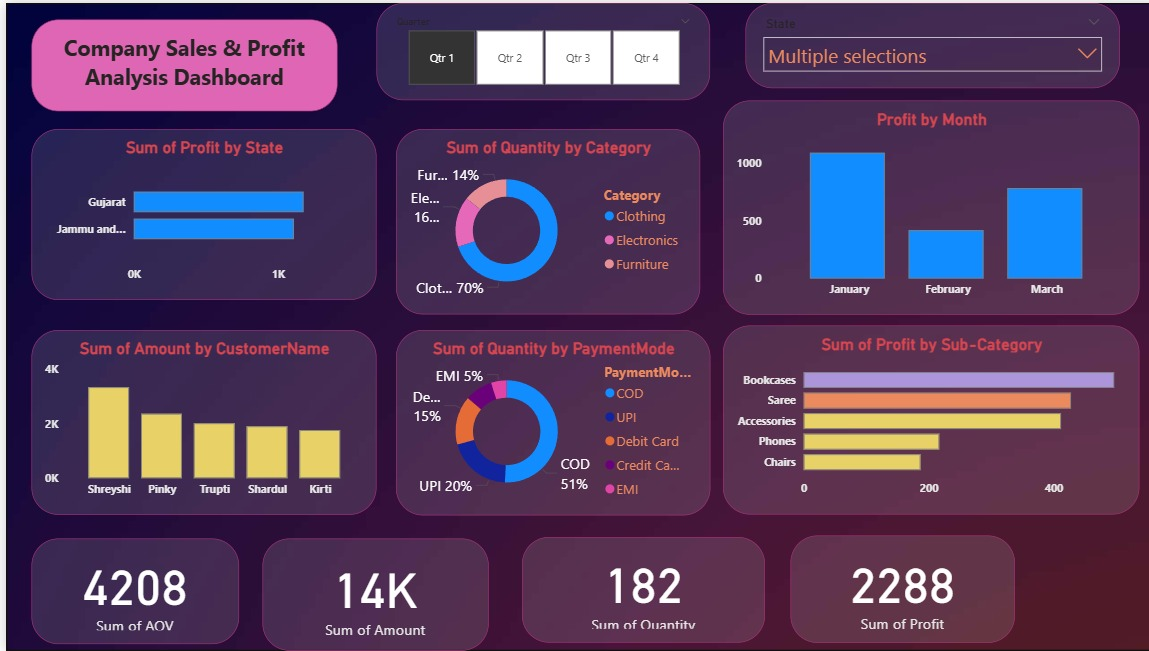

The dashboard page shown, as its layout file describes it:
{"tool":"powerbi","page":{"name":"Page 1","canvas":[1280,720],"ordinal":0},"visuals":[{"type":"textbox","box":[28.3,20.8,340.2,86.9],"z":1},{"type":"columnChart","title":" Profit by Month","fields":{"Y":["Sum(Details.Profit)"],"Category":["Orders.Order Date.Variation.Date Hierarchy.Month"]},"box":[797.5,107.7,463,238.1],"z":2},{"type":"barChart","fields":{"Category":["Details.Sub-Category"],"Y":["Sum(Details.Profit)"]},"box":[797.5,359.1,463,209.8],"z":3},{"type":"donutChart","fields":{"Category":["Details.Category"],"Y":["Sum(Details.Quantity)"]},"box":[432.8,139.8,338.3,206],"z":4},{"type":"donutChart","fields":{"Y":["Sum(Details.Quantity)"],"Category":["Details.PaymentMode"]},"box":[432.8,362.8,349.6,206],"z":5},{"type":"card","fields":{"Values":["Sum(Details.Amount)"]},"box":[285.4,595.3,251.3,124.7],"z":6},{"type":"card","fields":{"Values":["Sum(Details.Quantity)"]},"box":[572.6,593.4,270.2,117.2],"z":7},{"type":"card","fields":{"Values":["Sum(Details.Profit)"]},"box":[871.2,591.5,249.5,119.1],"z":8},{"type":"card","fields":{"Values":["Sum(Details.AOV)"]},"box":[28.3,595.3,230.6,117.2],"z":9},{"type":"barChart","fields":{"Y":["Sum(Details.Profit)"],"Category":["Orders.State"]},"box":[28.3,139.8,383.6,190.9],"z":10},{"type":"columnChart","fields":{"Category":["Orders.CustomerName"],"Y":["Sum(Details.Amount)"]},"box":[5.7,362.8,406.3,206],"z":11},{"type":"slicer","fields":{"Values":["Orders.Order Date.Variation.Date Hierarchy.Quarter"]},"box":[412,0,370.4,107.7],"z":12},{"type":"slicer","fields":{"Values":["Orders.State"]},"box":[822.1,0,415.8,94.5],"z":13}]}

Visuals, with their boxes in screenshot pixels (x1, y1, x2, y2), scaled from the page's 1280x720 canvas onto the 1149x651 screenshot:
textbox: select_region(25, 19, 331, 97)
" Profit by Month" columnChart: select_region(716, 97, 1131, 313)
barChart - Details.Sub-Category x Sum(Details.Profit): select_region(716, 325, 1131, 514)
donutChart - Details.Category x Sum(Details.Quantity): select_region(389, 126, 692, 313)
donutChart - Sum(Details.Quantity) x Details.PaymentMode: select_region(389, 328, 702, 514)
card - Sum(Details.Amount): select_region(256, 538, 482, 650)
card - Sum(Details.Quantity): select_region(514, 537, 757, 643)
card - Sum(Details.Profit): select_region(782, 535, 1006, 643)
card - Sum(Details.AOV): select_region(25, 538, 232, 644)
barChart - Sum(Details.Profit) x Orders.State: select_region(25, 126, 370, 299)
columnChart - Orders.CustomerName x Sum(Details.Amount): select_region(5, 328, 370, 514)
slicer - Orders.Order Date.Variation.Date Hierarchy.Quarter: select_region(370, 0, 702, 97)
slicer - Orders.State: select_region(738, 0, 1111, 85)
